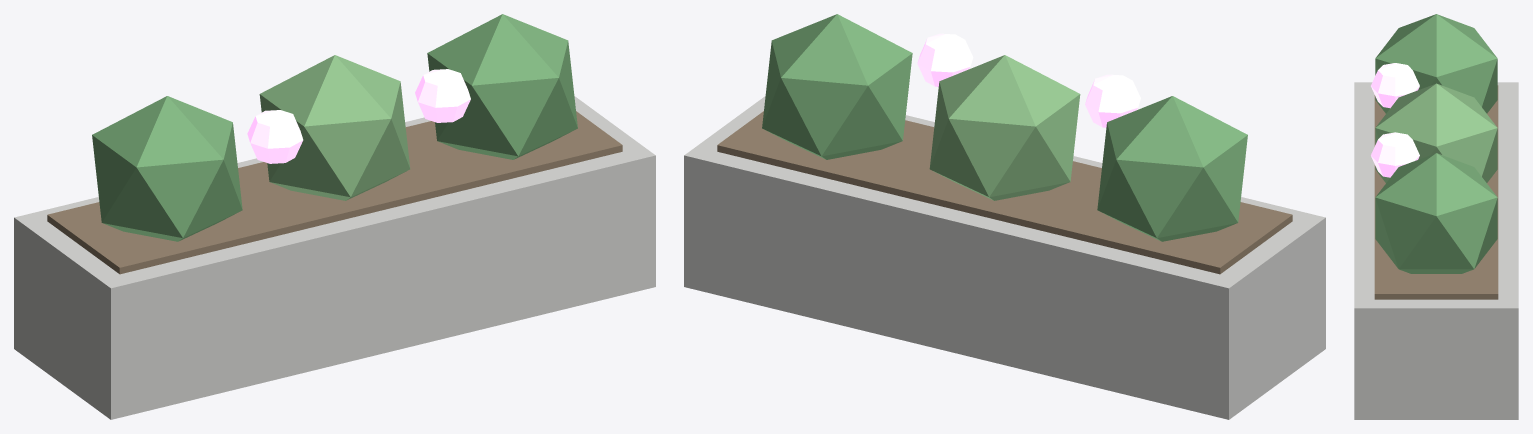
The model's file is planter_long.glb.
The picture shows the model from 3 angles, left to right: view 1: azimuth 30°, elevation 25°; view 2: azimuth 150°, elevation 25°; view 3: azimuth 270°, elevation 25°; orthographic projection. The views are drawn at different scales.
Visible parts, largest first — view 1: planter_long_body; view 2: planter_long_body; view 3: planter_long_body.
Boxes of the visible parts, x1,y1,x2,y2 form: planter_long_body: (14,14,655,419); planter_long_body: (684,14,1325,419); planter_long_body: (1354,14,1518,419).
Size of the model in its own units: 0.26 by 0.12 by 0.08.
